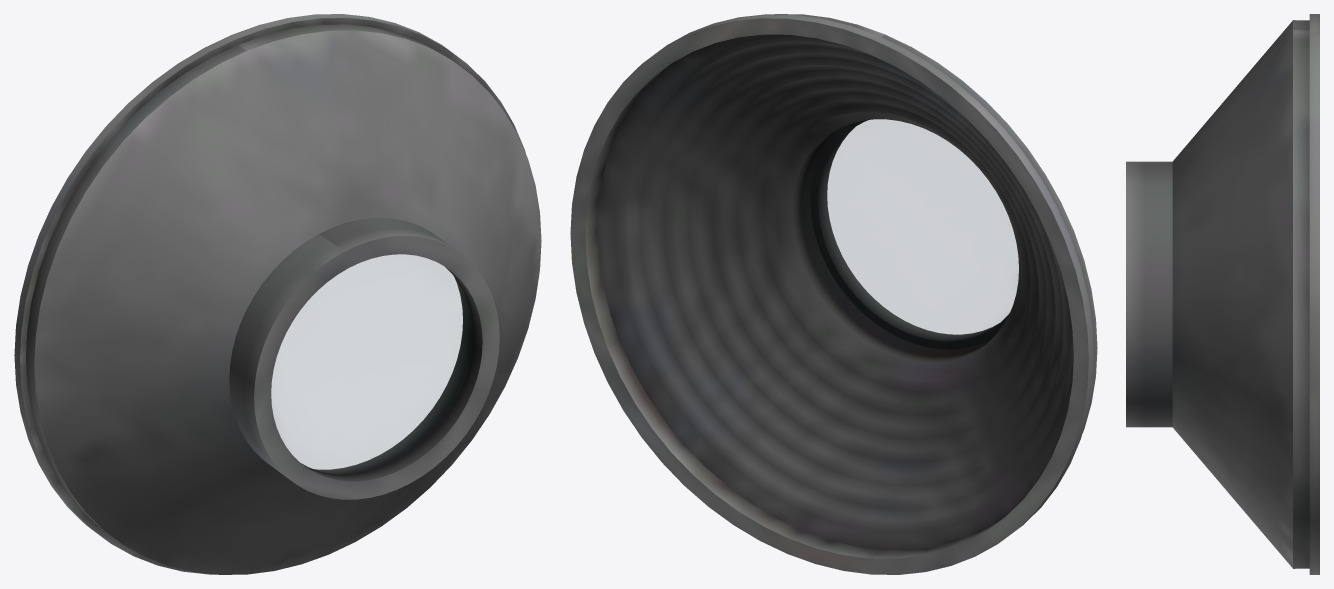
Rendered from SM_WinMetal01.gltf.
3 views of the same model, side by side, from view 1: azimuth 30°, elevation 25°; view 2: azimuth 150°, elevation 25°; view 3: azimuth 270°, elevation 25° (orthographic). The views are drawn at different scales.
Visible parts, largest first — view 1: SM_WinMetal01; view 2: SM_WinMetal01; view 3: SM_WinMetal01.
Part boxes in pixels (left/top/right/bottom): SM_WinMetal01: left=14, top=14, right=541, bottom=574; SM_WinMetal01: left=570, top=14, right=1097, bottom=574; SM_WinMetal01: left=1126, top=14, right=1319, bottom=574.
Size of the model in its own units: 0.8354 by 0.8341 by 0.288.
Materials: 2 (2 with a texture image).
